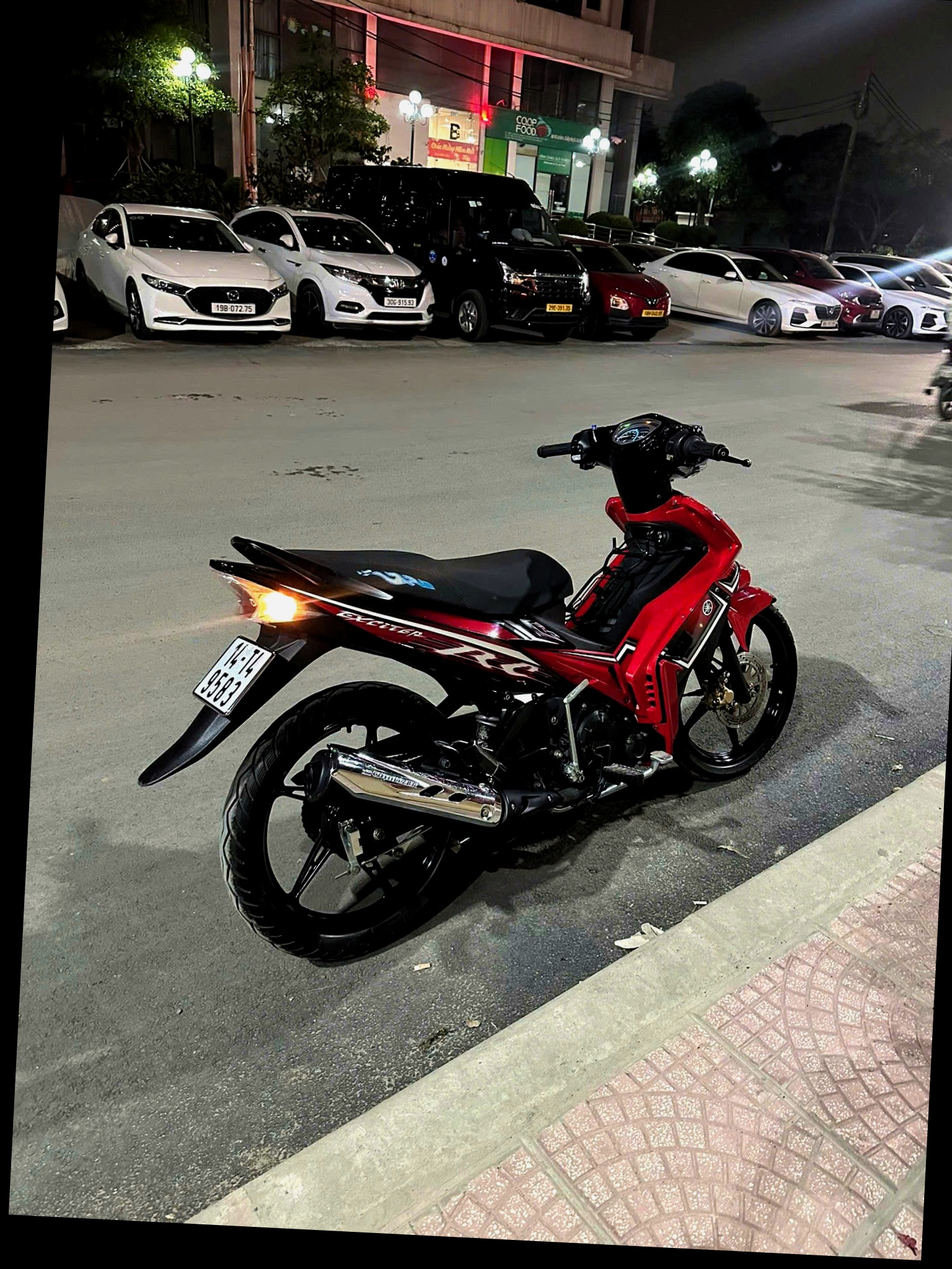Bien-so: (164, 702, 249, 782)
